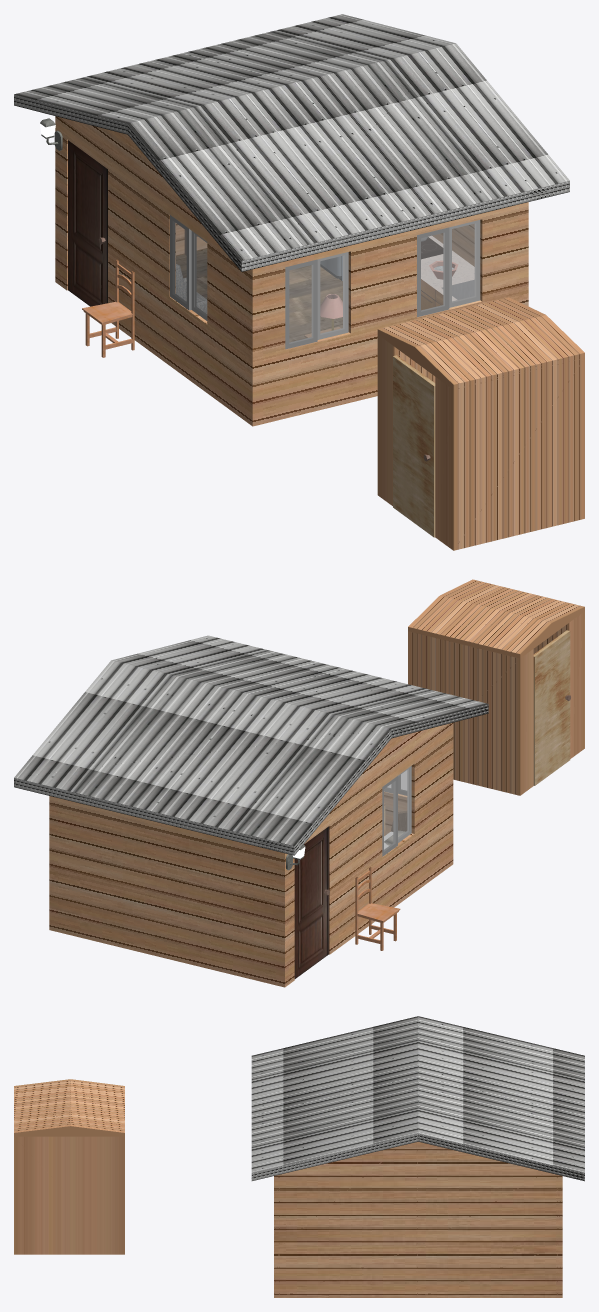
Rendered from BetterCabinw_completefurniture.glb.
3 renders of one model, top to bottom at view 1: azimuth 30°, elevation 25°; view 2: azimuth 150°, elevation 25°; view 3: azimuth 270°, elevation 25°, orthographic. The views are drawn at different scales.
Visible parts, largest first — view 1: Roof.001, CabinWalls.001, Plane.001, Door.002, Door.001, Chair_15, Furniture; view 2: Roof.001, CabinWalls.001, Plane.001, Door.002, Door.001, Chair_15; view 3: Roof.001, CabinWalls.001, Plane.001.
Boxes of the visible parts, left/top/right/bottom form: Roof.001: left=14, top=14, right=569, bottom=271; CabinWalls.001: left=55, top=116, right=528, bottom=426; Plane.001: left=377, top=297, right=584, bottom=550; Door.002: left=393, top=355, right=435, bottom=537; Door.001: left=68, top=140, right=107, bottom=306; Chair_15: left=82, top=259, right=134, bottom=357; Furniture: left=184, top=230, right=474, bottom=310; Roof.001: left=14, top=635, right=488, bottom=855; CabinWalls.001: left=49, top=722, right=453, bottom=987; Plane.001: left=408, top=579, right=584, bottom=795; Door.002: left=533, top=630, right=570, bottom=785; Door.001: left=294, top=826, right=329, bottom=978; Chair_15: left=355, top=867, right=400, bottom=950; Roof.001: left=251, top=1016, right=584, bottom=1181; CabinWalls.001: left=274, top=1141, right=562, bottom=1297; Plane.001: left=14, top=1079, right=124, bottom=1254.
Bounding box in the file's own units: 5.27 × 3.48 × 10.28.
Materials: 51 (42 with a texture image).
